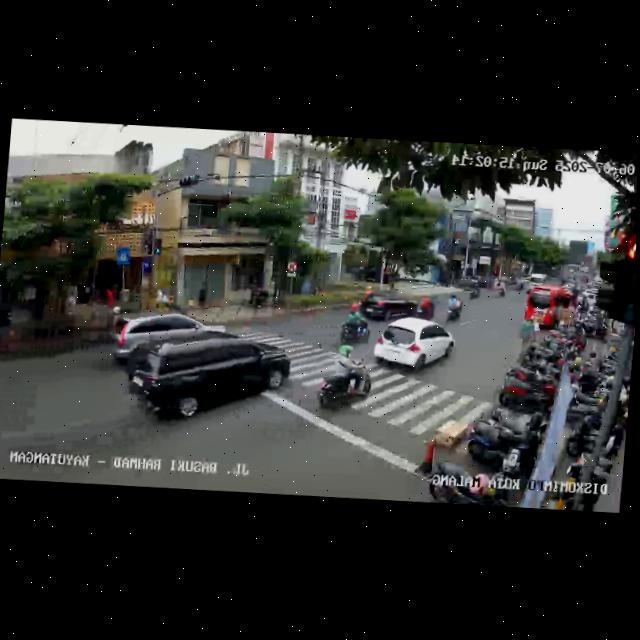car: (133, 323, 293, 431), (107, 307, 226, 375), (371, 315, 457, 380), (523, 283, 578, 332)
motorcycle: (313, 342, 373, 415), (337, 304, 372, 347), (444, 291, 463, 322), (417, 295, 437, 322), (466, 278, 481, 300), (495, 277, 508, 300)
